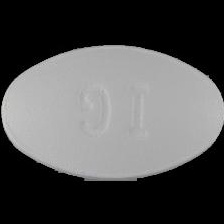66336-316: (0, 0, 224, 224)
